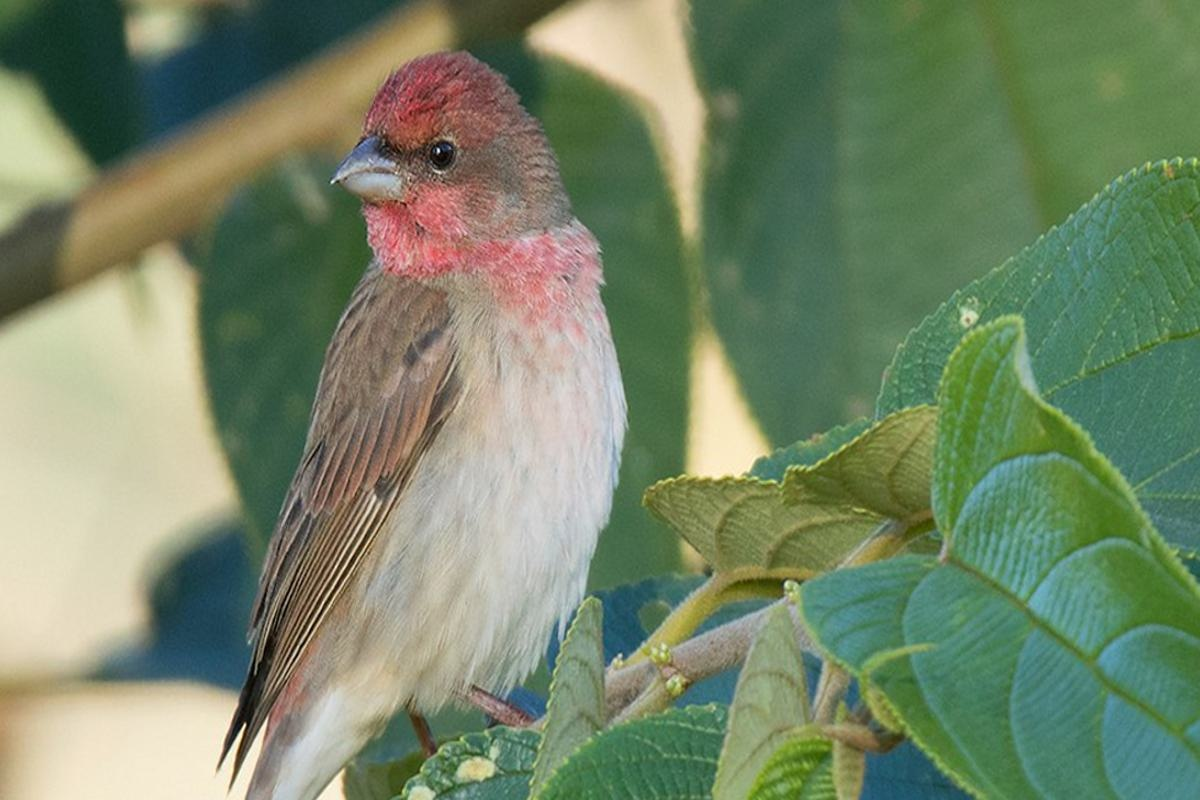rosefinch: (305, 43, 639, 728)
